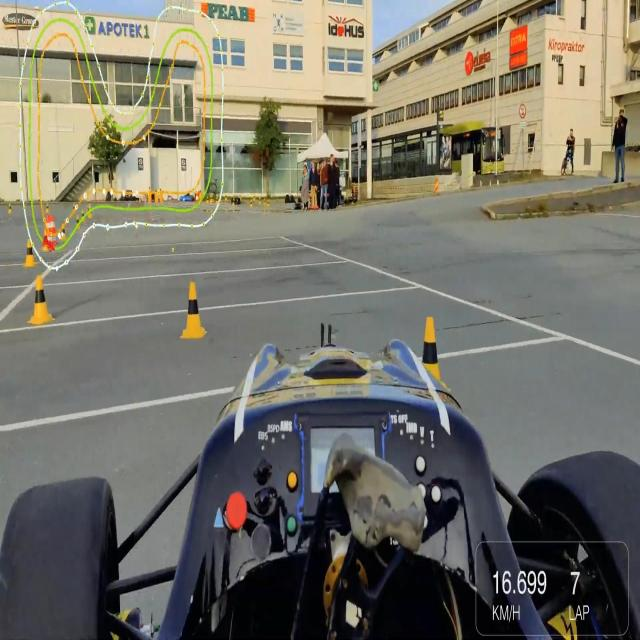large_orange_cone: (44, 217, 52, 250), (50, 215, 56, 248)
yellow_cone: (406, 317, 451, 442), (179, 279, 208, 348), (28, 275, 54, 327), (23, 238, 37, 270), (42, 229, 49, 254), (59, 224, 68, 242), (7, 201, 13, 216), (80, 209, 86, 224), (88, 206, 94, 221), (44, 201, 50, 215), (76, 216, 79, 233)
